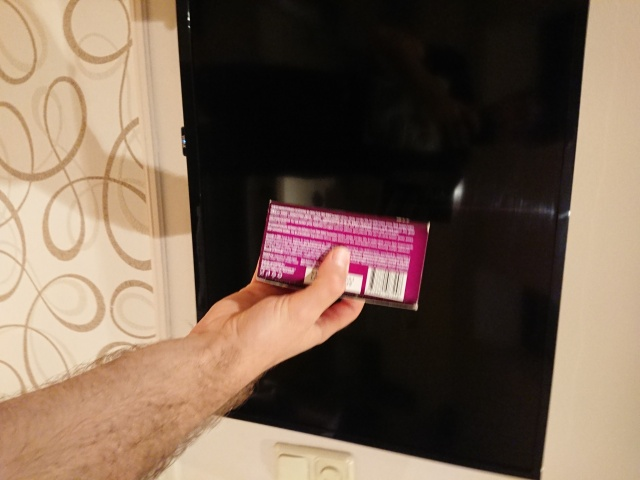Franck Black Currant Tea 60g: (252, 196, 433, 314)
